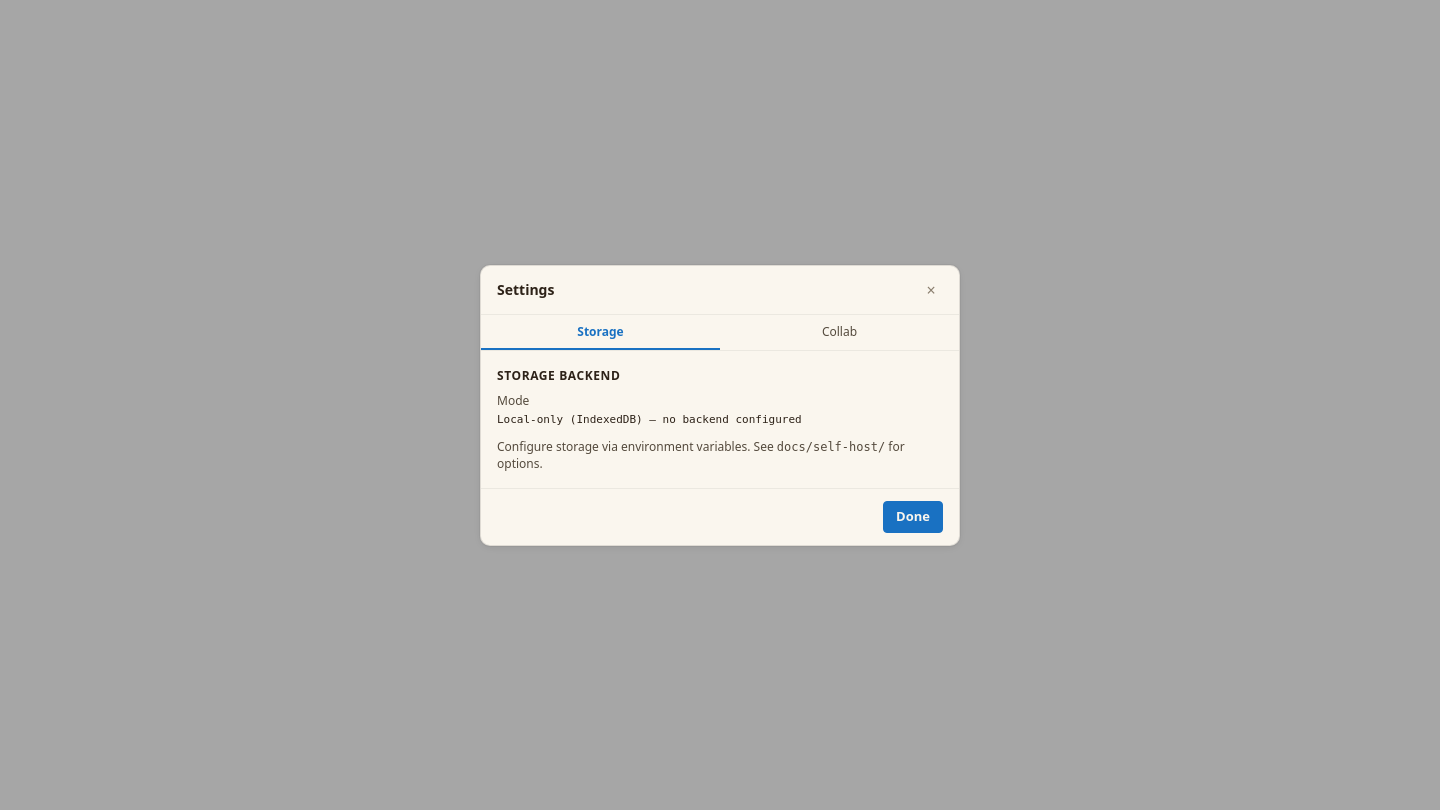
Test: SettingsDialog — CollaborationTab › shows the real configured WS URL and enabled presence when realtime is on
The width and height of the screenshot is (1440, 810).
Click the button with test id "settings-tab-collaboration": (840, 332) [720, 314, 959, 350]
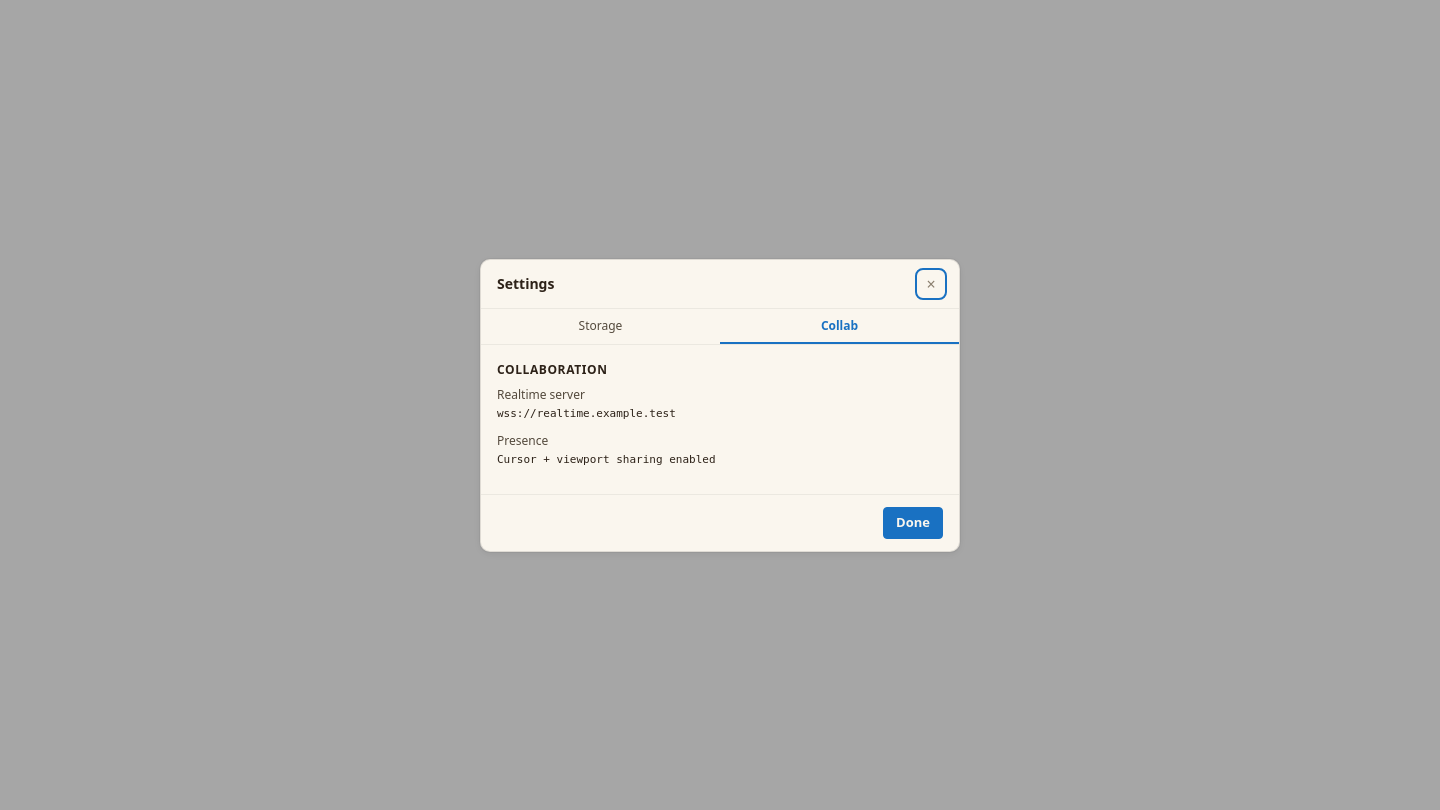
Expected: the text with test id "realtime-url" reads "wss://realtime.example.test", [497, 406, 676, 420]
Expected: the text "Cursor + viewport sharing enabled" is shown, [497, 452, 716, 466]
